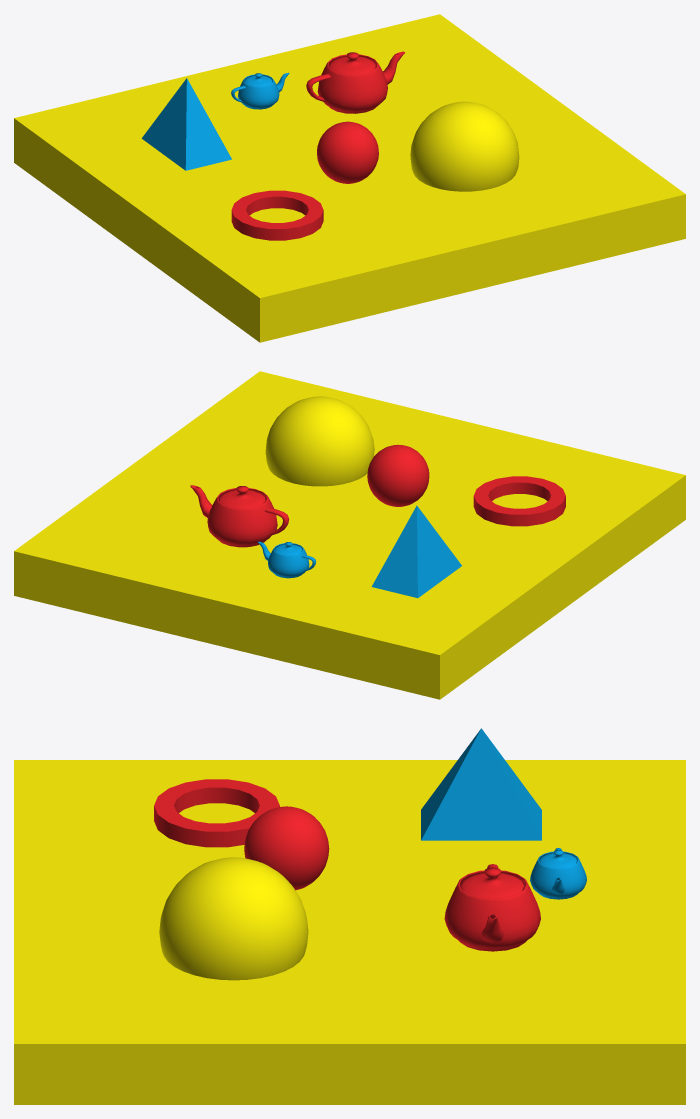
The model's file is background.FBX.
The picture shows the model from 3 angles, top to bottom: view 1: azimuth 30°, elevation 25°; view 2: azimuth 150°, elevation 25°; view 3: azimuth 270°, elevation 25°; orthographic projection. The views are drawn at different scales.
Parts seen in each view (by area): view 1: Box001, Sphere002, Pyramid001, Teapot001, Tube001, Sphere001, Teapot002; view 2: Box001, Sphere002, Pyramid001, Teapot001, Tube001, Sphere001, Teapot002; view 3: Box001, Sphere002, Pyramid001, Teapot001, Tube001, Sphere001, Teapot002.
Boxes of the visible parts, box(x1,y1,x2,y2) form: Box001: box(14, 14, 685, 342); Sphere002: box(410, 101, 519, 191); Pyramid001: box(141, 78, 231, 170); Teapot001: box(306, 51, 404, 113); Tube001: box(231, 190, 323, 240); Sphere001: box(317, 121, 378, 183); Teapot002: box(231, 72, 289, 109); Box001: box(14, 371, 685, 699); Sphere002: box(265, 396, 374, 486); Pyramid001: box(371, 505, 461, 598); Teapot001: box(190, 485, 289, 547); Tube001: box(473, 476, 565, 526); Sphere001: box(367, 444, 429, 506); Teapot002: box(258, 541, 316, 578); Box001: box(14, 760, 685, 1104); Sphere002: box(159, 857, 308, 980); Pyramid001: box(421, 728, 541, 840); Teapot001: box(444, 864, 540, 951); Tube001: box(154, 779, 279, 847); Sphere001: box(244, 806, 329, 890); Teapot002: box(530, 848, 586, 899).
Bounding box in the file's own units: 100 × 25.96 × 100.
7 materials, 7 textured.
